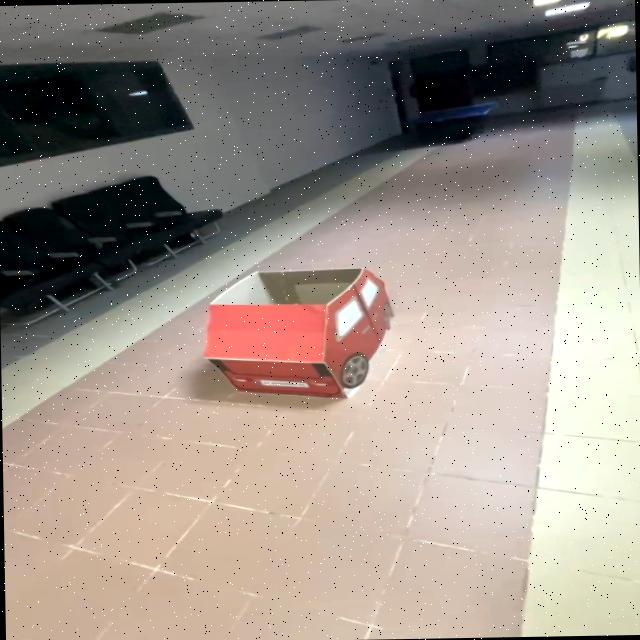red_car: (181, 245, 453, 430)
